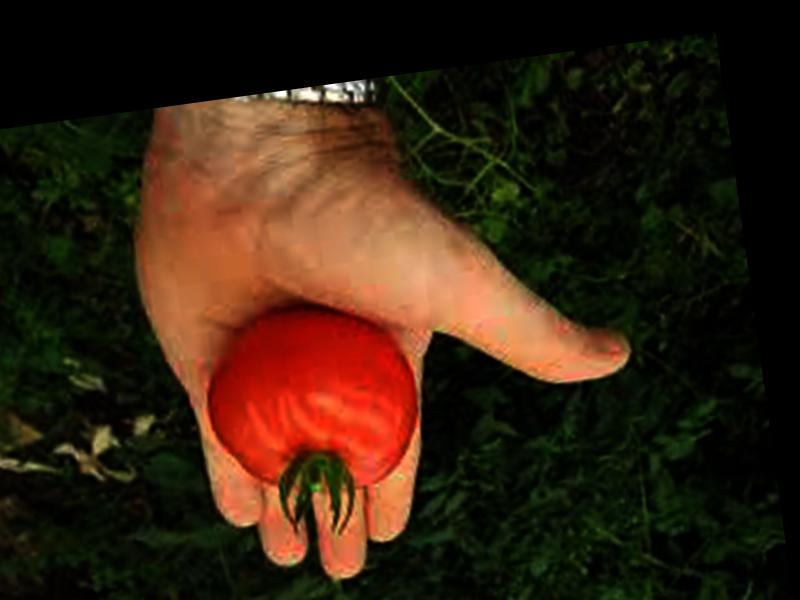Tomato: (193, 295, 429, 504)
